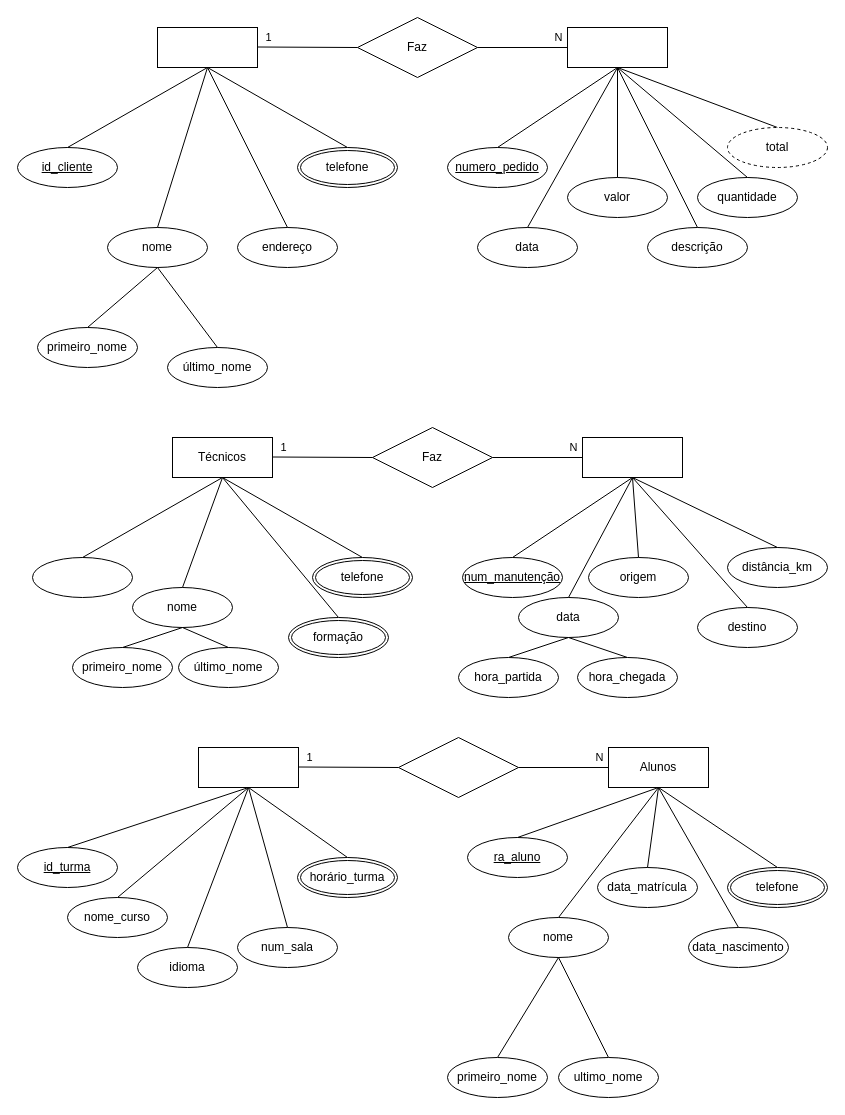
Some shapes in this 845 by 1115 pixel diagram are drawn without their labels. The centre of each missing label's shape, as x and y in pixels:
"Clientes" belongs at pixel 207 47.
"Cursos" belongs at pixel 248 767.
"matrícula_técnico" belongs at pixel 82 577.
"Pedidos" belongs at pixel 617 47.
"Tem" belongs at pixel 458 767.
"Viagens" belongs at pixel 632 457.
